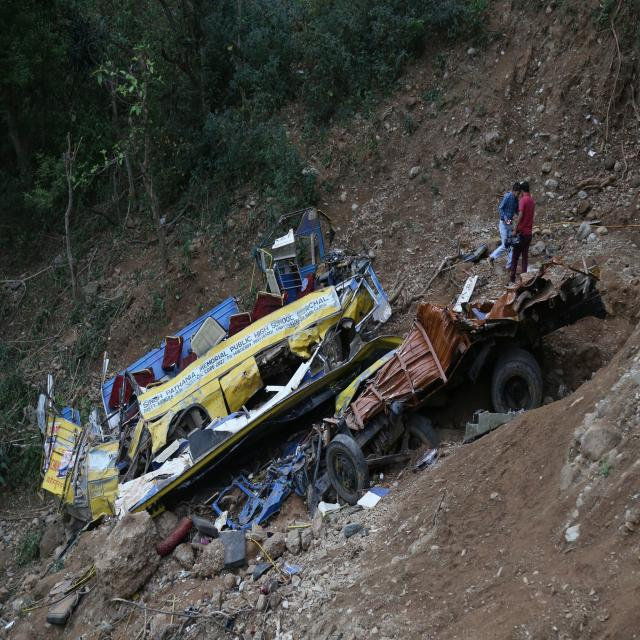accident: (40, 206, 605, 531)
